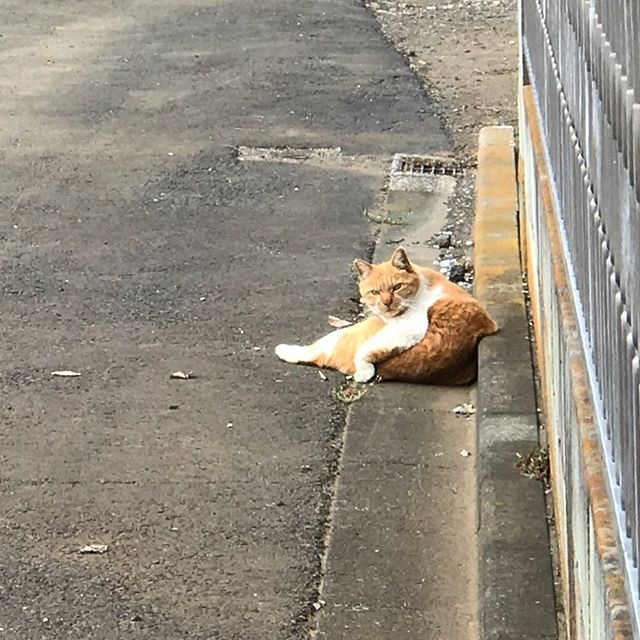animal: (268, 242, 514, 414)
street: (1, 1, 435, 633)
